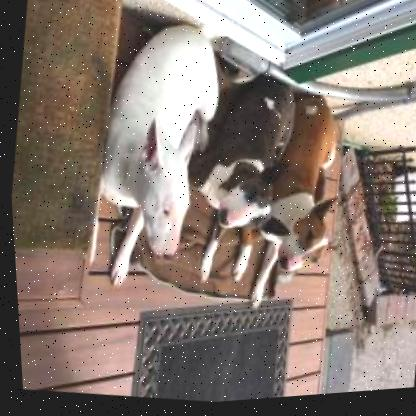dog: (72, 10, 241, 302), (212, 81, 368, 321), (182, 64, 303, 283)
